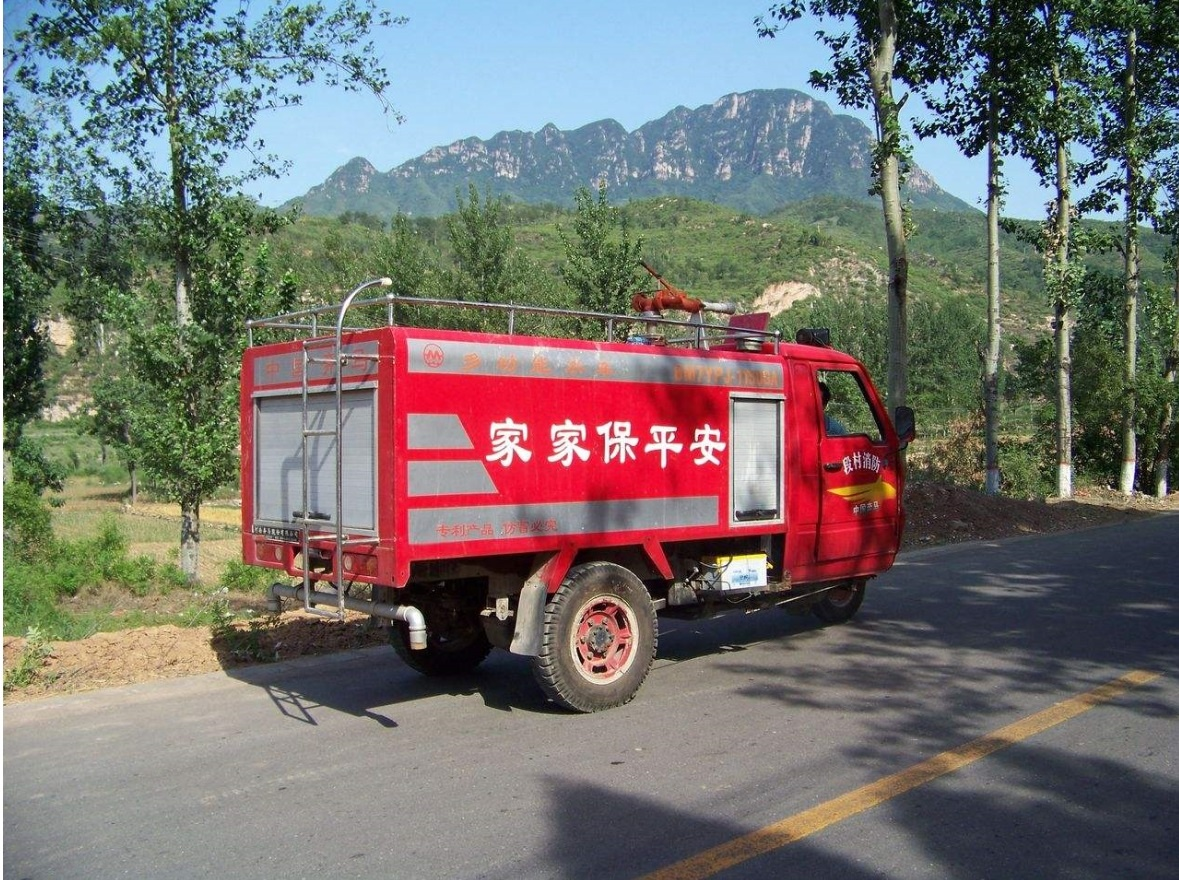fire engine: (222, 255, 905, 716)
